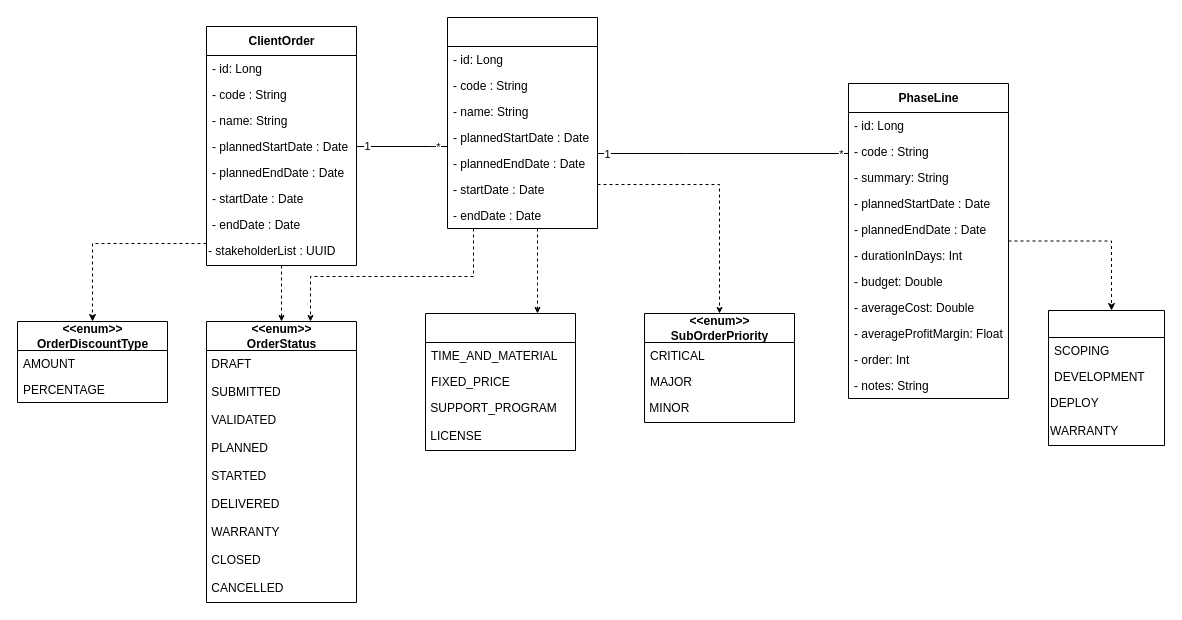
Image size: 1182x620. Some labels were removed from this diagram. The shapes that lost their labels are listed below. From the top down, each one's box as (x1, y1, x2, y2) in pixels, then its label:
(446, 16, 598, 228): InternalOrder
(424, 312, 576, 450): <<enum>> InternalOrderType
(1048, 310, 1164, 446): <<enum>> phasetype
